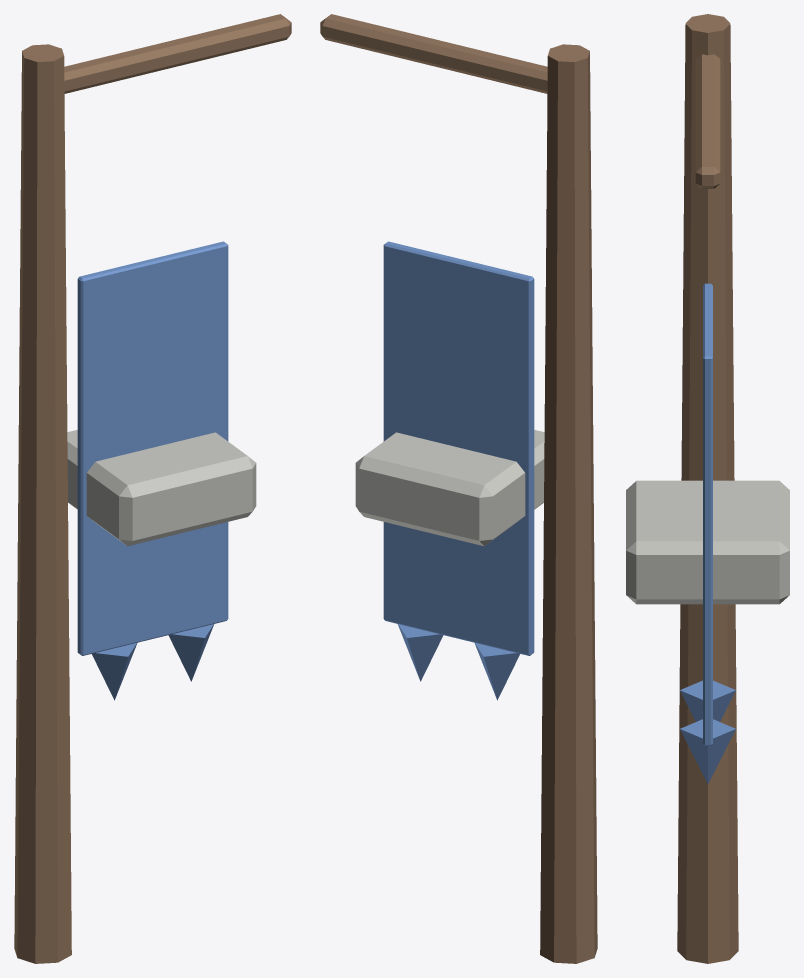
File: town_banner_pole.glb
3 renders of one model, left to right at view 1: azimuth 30°, elevation 25°; view 2: azimuth 150°, elevation 25°; view 3: azimuth 270°, elevation 25°, orthographic. The views are drawn at different scales.
Parts seen in each view (by area): view 1: world; view 2: world; view 3: world.
Boxes of the visible parts, <box> form: world: <box>14,14,291,963</box>; world: <box>320,14,597,963</box>; world: <box>626,14,789,963</box>.
Bounding box in the file's own units: 0.6319 × 2 × 0.32.
